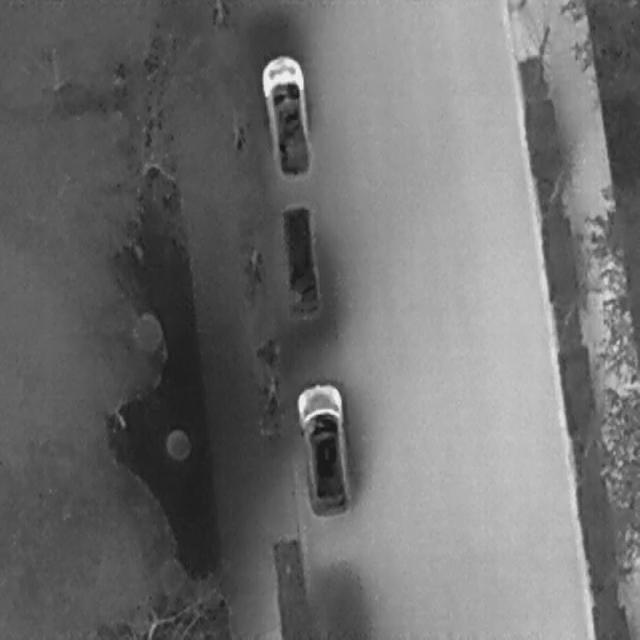Car: (291, 375, 356, 524), (255, 50, 318, 185), (272, 195, 328, 326)
